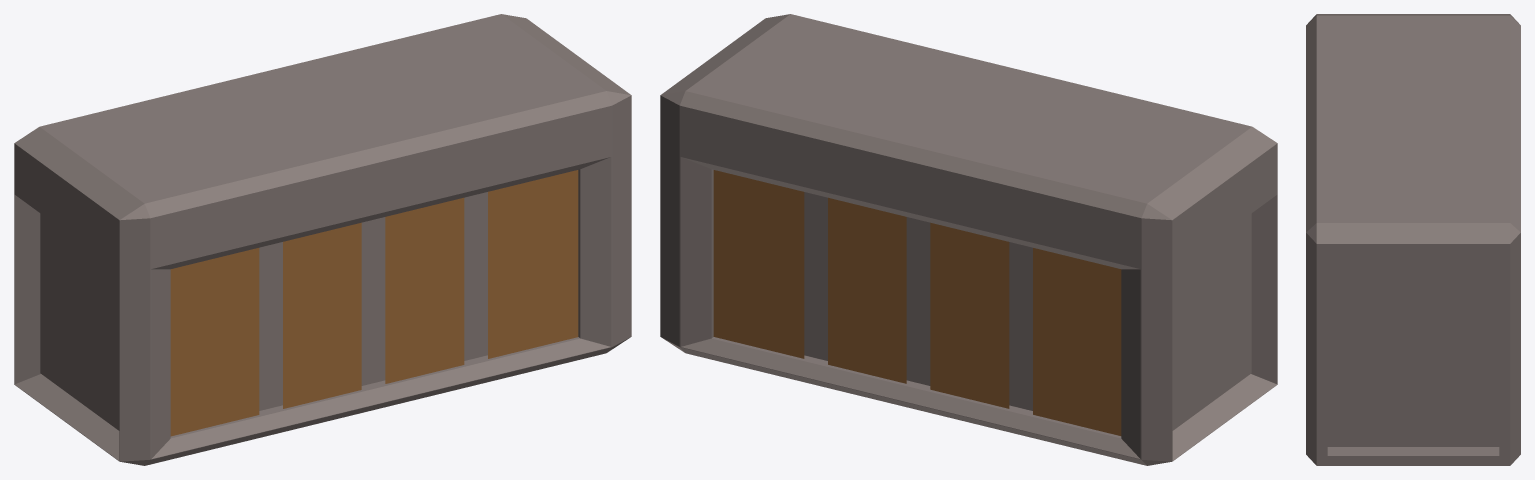
The model's file is treasure chest.fbx.
3 renders of one model, left to right at view 1: azimuth 30°, elevation 25°; view 2: azimuth 150°, elevation 25°; view 3: azimuth 270°, elevation 25°, orthographic. The views are drawn at different scales.
Parts seen in each view (by area): view 1: Cube; view 2: Cube; view 3: Cube.
Boxes of the visible parts, bbox=[...] form: Cube: bbox=[14, 14, 631, 465]; Cube: bbox=[660, 14, 1277, 465]; Cube: bbox=[1306, 14, 1520, 465].
Size of the model in its own units: 507 by 248 by 200.
